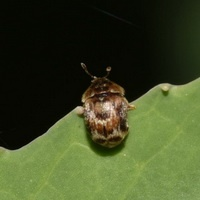insect: (81, 63, 134, 147)
